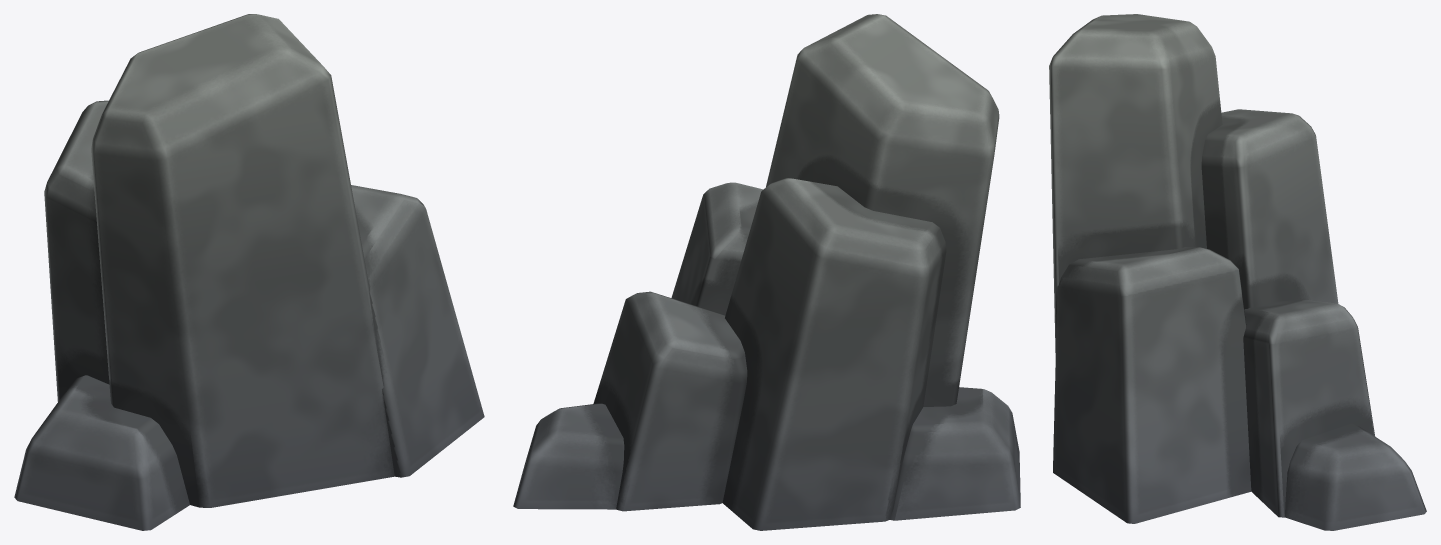
File: crag_1.glb
3 renders of one model, left to right at view 1: azimuth 30°, elevation 25°; view 2: azimuth 150°, elevation 25°; view 3: azimuth 270°, elevation 25°, orthographic. The views are drawn at different scales.
Visible parts, largest first — view 1: crag_1; view 2: crag_1; view 3: crag_1.
Part boxes in pixels (<box>): crag_1: <box>14,14,484,530</box>; crag_1: <box>513,14,1020,530</box>; crag_1: <box>1049,14,1426,530</box>.
Size of the model in its own units: 3.2 by 3 by 2.6.
Materials: 1 (1 with a texture image).
